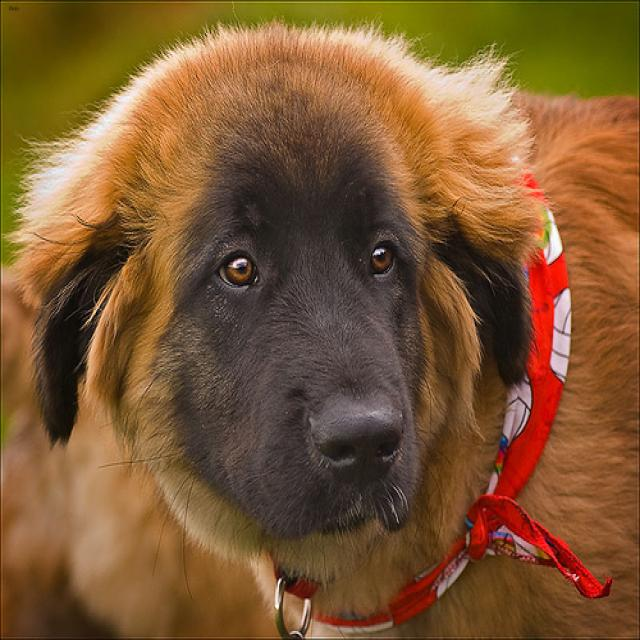dog-leonberger: (1, 1, 637, 637)
